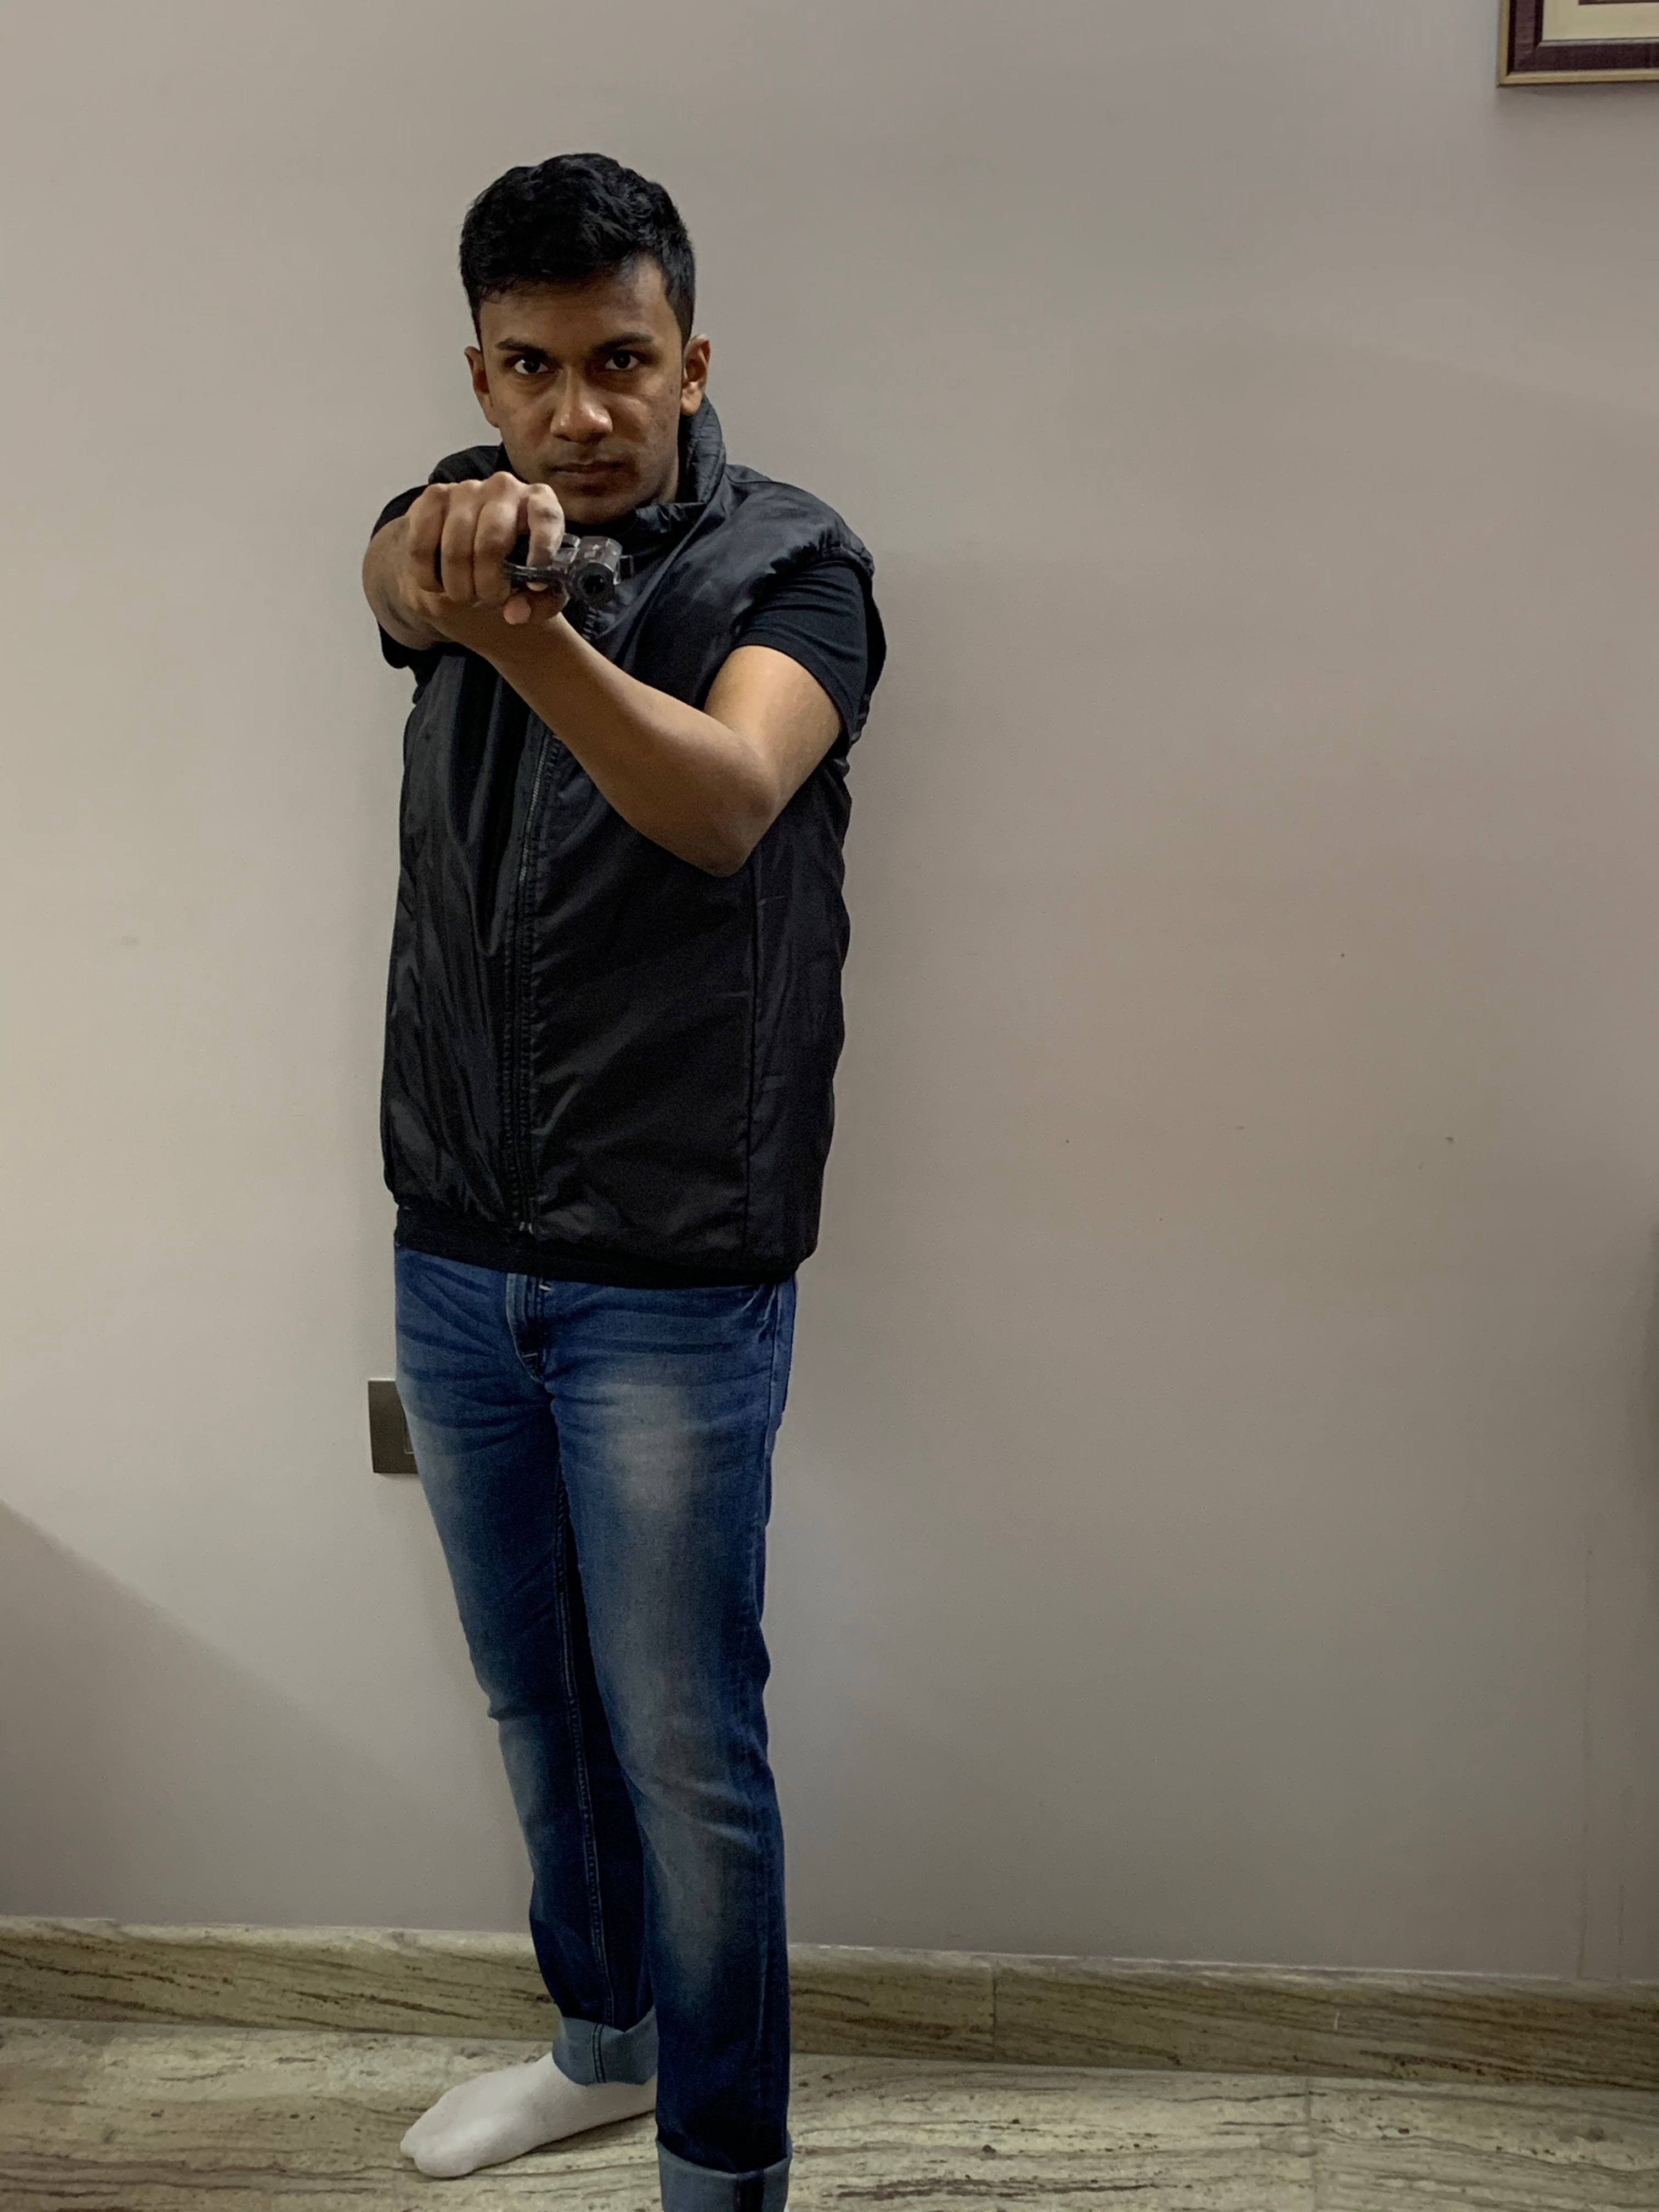gun: (507, 519, 633, 610)
